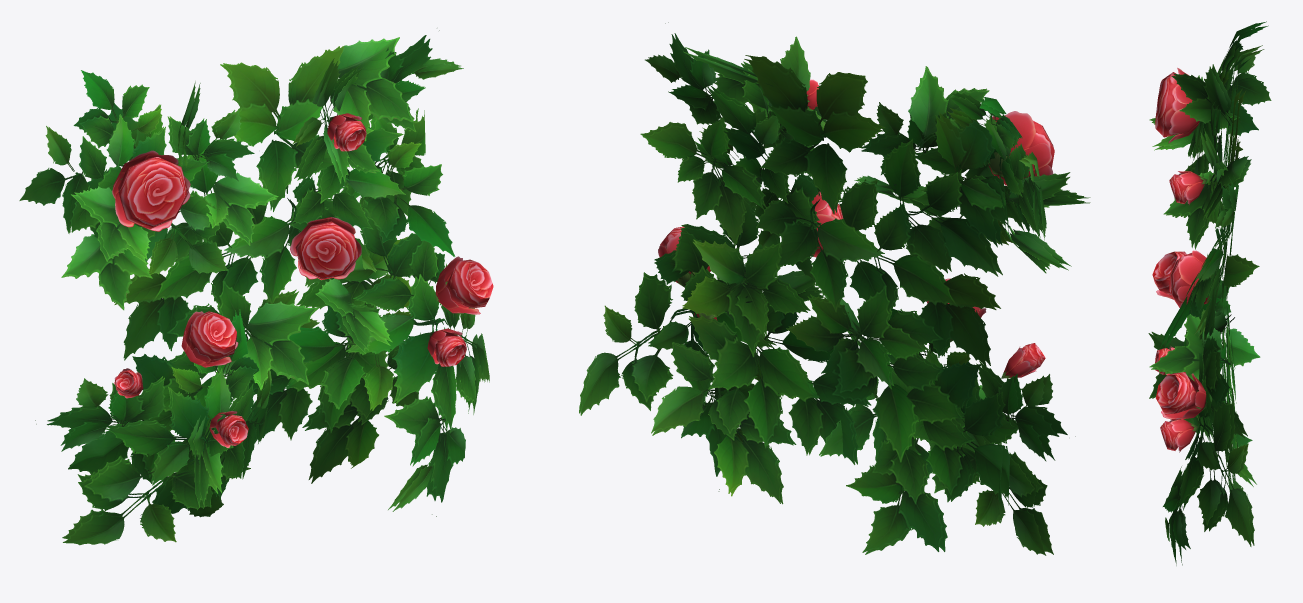
Rendered from SE_Rose_14.fbx.
3 renders of one model, left to right at view 1: azimuth 30°, elevation 25°; view 2: azimuth 150°, elevation 25°; view 3: azimuth 270°, elevation 25°, orthographic. The views are drawn at different scales.
Parts seen in each view (by area): view 1: SE_Rose_14; view 2: SE_Rose_14; view 3: SE_Rose_14.
Part boxes in pixels (<box>): SE_Rose_14: <box>19,30,493,545</box>; SE_Rose_14: <box>579,22,1090,555</box>; SE_Rose_14: <box>1148,21,1271,565</box>.
Bounding box in the file's own units: 5.51 × 5.66 × 1.69.
